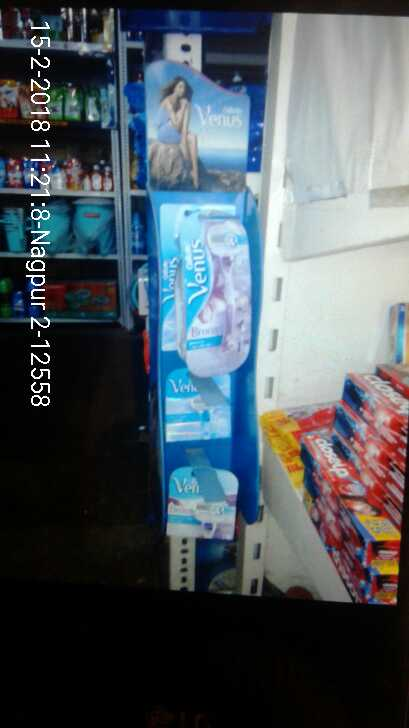venus: (176, 213, 255, 373), (170, 466, 242, 544), (161, 370, 235, 443)
